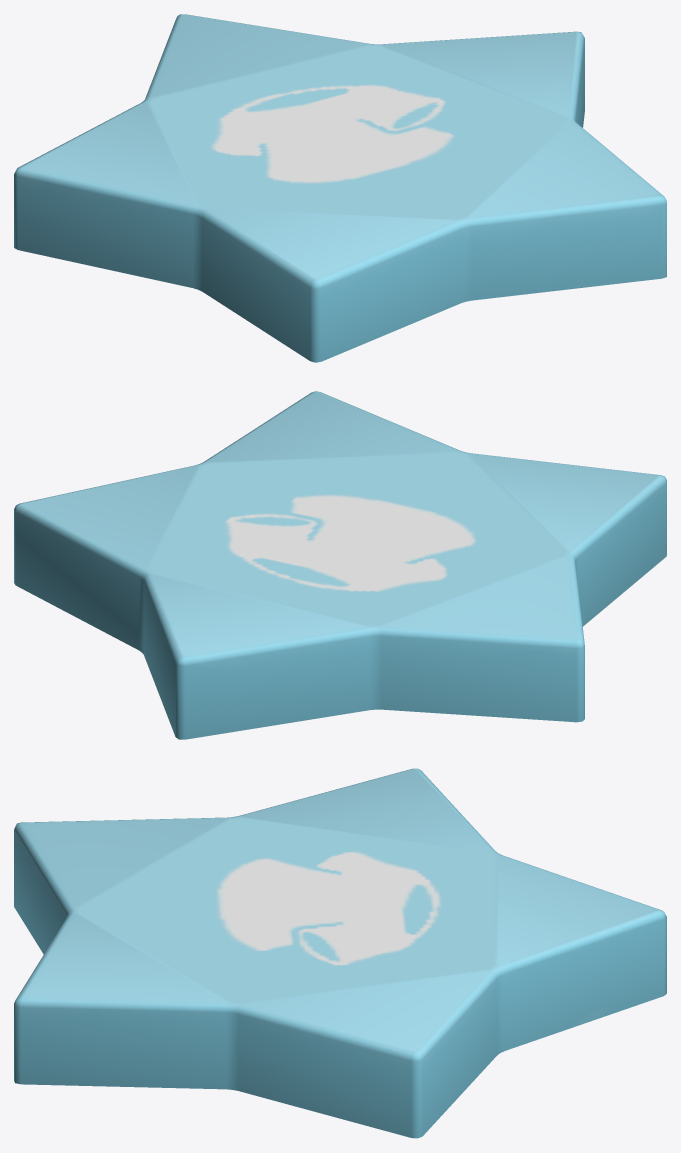
Rendered from dance_fan.glb.
3 views of the same model, one above another, from view 1: azimuth 30°, elevation 25°; view 2: azimuth 150°, elevation 25°; view 3: azimuth 270°, elevation 25° (orthographic). The views are drawn at different scales.
Visible parts, largest first — view 1: dance_fan; view 2: dance_fan; view 3: dance_fan.
Boxes of the visible parts, bbox=[...] form: dance_fan: bbox=[14, 14, 666, 362]; dance_fan: bbox=[14, 391, 666, 739]; dance_fan: bbox=[14, 768, 666, 1138].
Bounding box in the file's own units: 0.439 × 0.0587 × 0.4182.
Materials: 1 (1 with a texture image).
